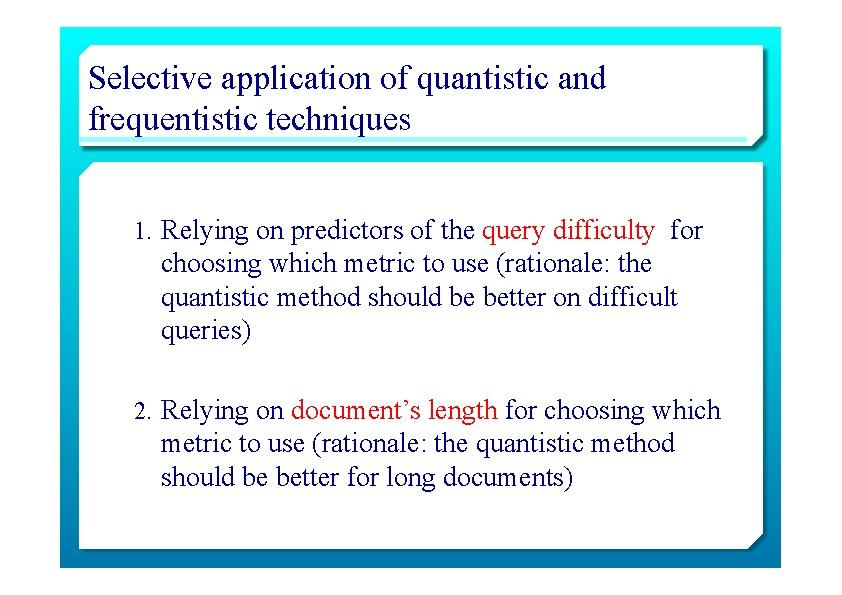paragraph: (121, 194, 748, 513)
title: (82, 53, 662, 143)
